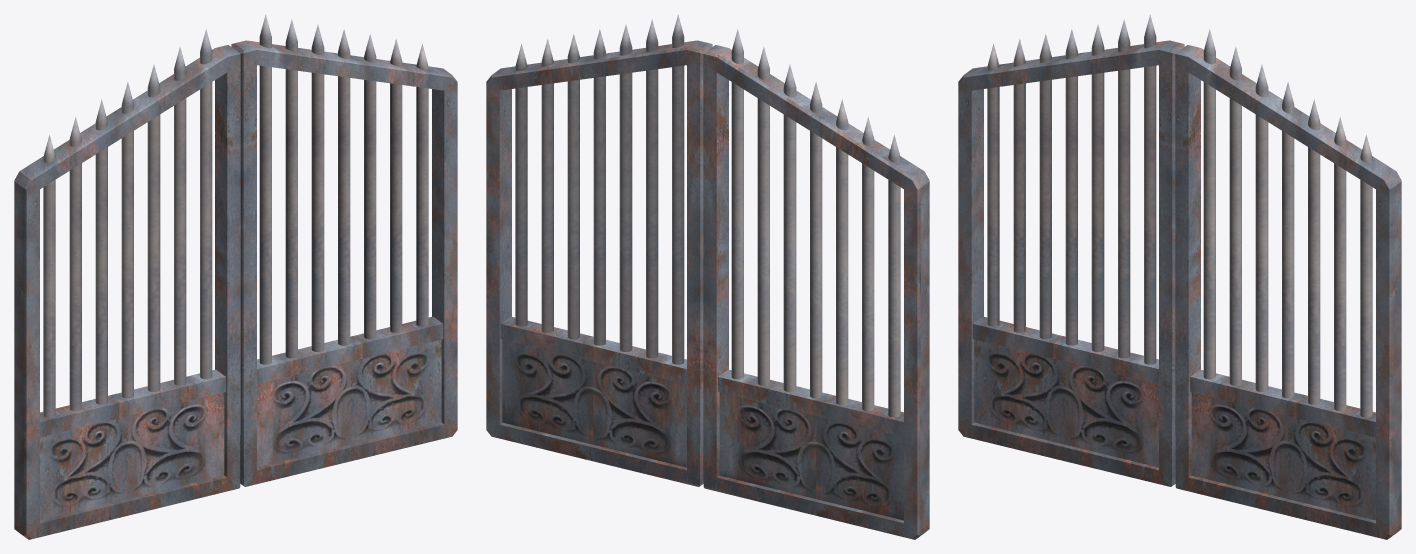
Rendered from Door.fbx.
3 views of the same model, side by side, from view 1: azimuth 30°, elevation 25°; view 2: azimuth 150°, elevation 25°; view 3: azimuth 330°, elevation 25° (orthographic).
Visible parts, largest first — view 1: pCube3, pCube4; view 2: pCube3, pCube4; view 3: pCube4, pCube3.
Part boxes in pixels (bbox=[...]): pCube3: bbox=[14, 29, 240, 539]; pCube4: bbox=[231, 14, 457, 486]; pCube3: bbox=[703, 29, 929, 539]; pCube4: bbox=[486, 14, 712, 486]; pCube4: bbox=[1175, 29, 1401, 539]; pCube3: bbox=[958, 14, 1184, 486].
Bounding box in the file's own units: 283 × 289 × 13.97.
